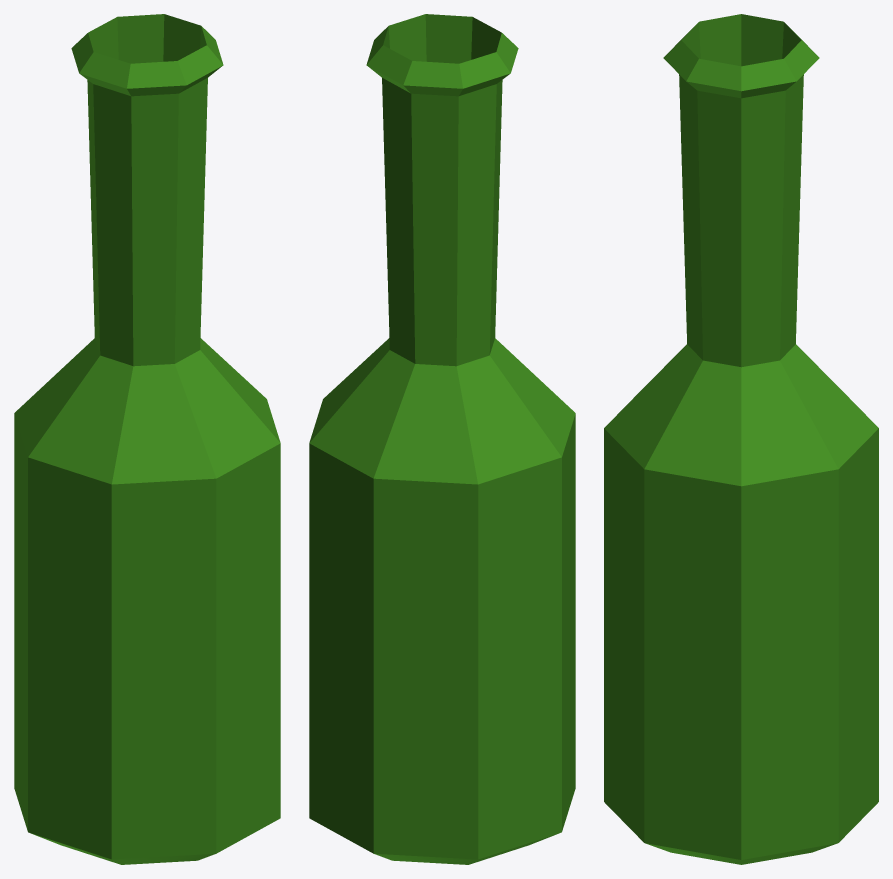
Rendered from BeerBottleFBX.fbx.
3 views of the same model, side by side, from view 1: azimuth 30°, elevation 25°; view 2: azimuth 150°, elevation 25°; view 3: azimuth 270°, elevation 25° (orthographic).
Visible parts, largest first — view 1: BeerBottle; view 2: BeerBottle; view 3: BeerBottle.
Part boxes in pixels (left/top/right/bottom): BeerBottle: left=14, top=14, right=280, bottom=864; BeerBottle: left=309, top=14, right=575, bottom=864; BeerBottle: left=604, top=14, right=878, bottom=864.
Bounding box in the file's own units: 0.4 × 1.26 × 0.4.
